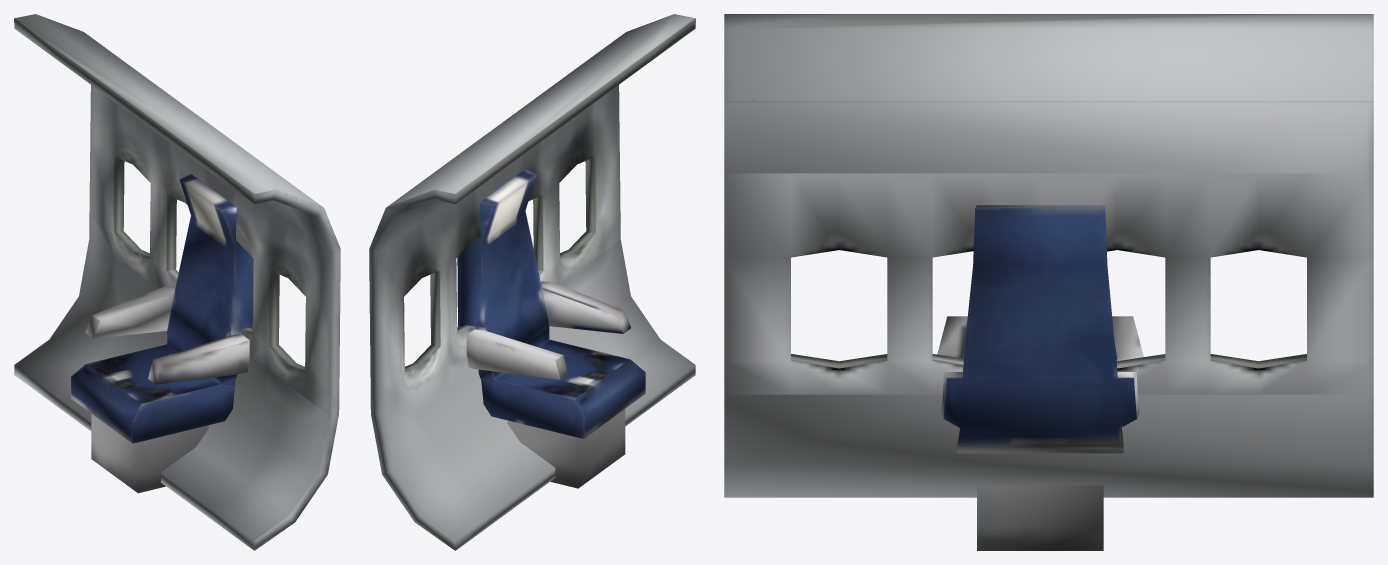
The model's file is ChairAndWall.fbx.
3 renders of one model, left to right at view 1: azimuth 30°, elevation 25°; view 2: azimuth 150°, elevation 25°; view 3: azimuth 270°, elevation 25°, orthographic. The views are drawn at different scales.
Parts seen in each view (by area): view 1: Cube.003, Cube.002; view 2: Cube.003, Cube.002; view 3: Cube.003, Cube.002.
Part boxes in pixels (<box>): Cube.003: <box>14,14,340,550</box>; Cube.002: <box>71,174,253,493</box>; Cube.003: <box>369,14,695,550</box>; Cube.002: <box>457,169,645,488</box>; Cube.003: <box>724,14,1373,497</box>; Cube.002: <box>937,205,1143,550</box>.
Bounding box in the file's own units: 1.59 × 4.16 × 5.01.
